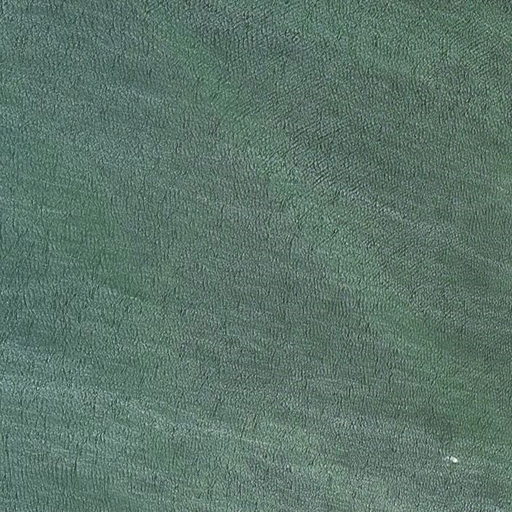ship: (447, 454, 460, 466)
